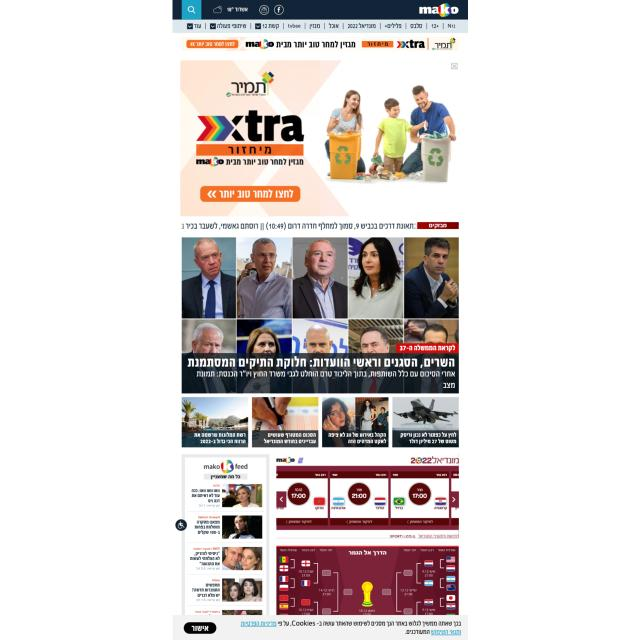logo: (416, 2, 459, 18)
navigation: (184, 21, 458, 31)
